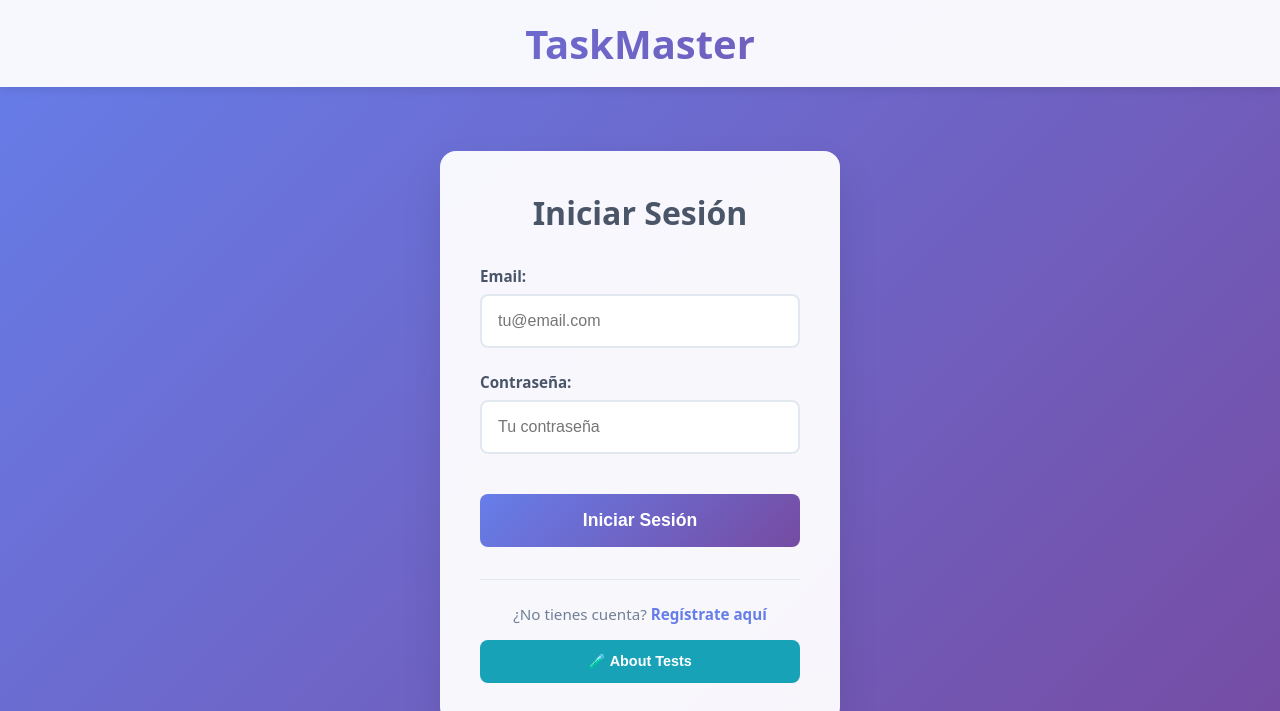
Scenario: Autenticación de Usuarios › Navegación entre Páginas › debería navegar de login a registro
Click the link with test id "register-link".
click(709, 614)  # box top-left (651, 604), bottom-right (767, 624)
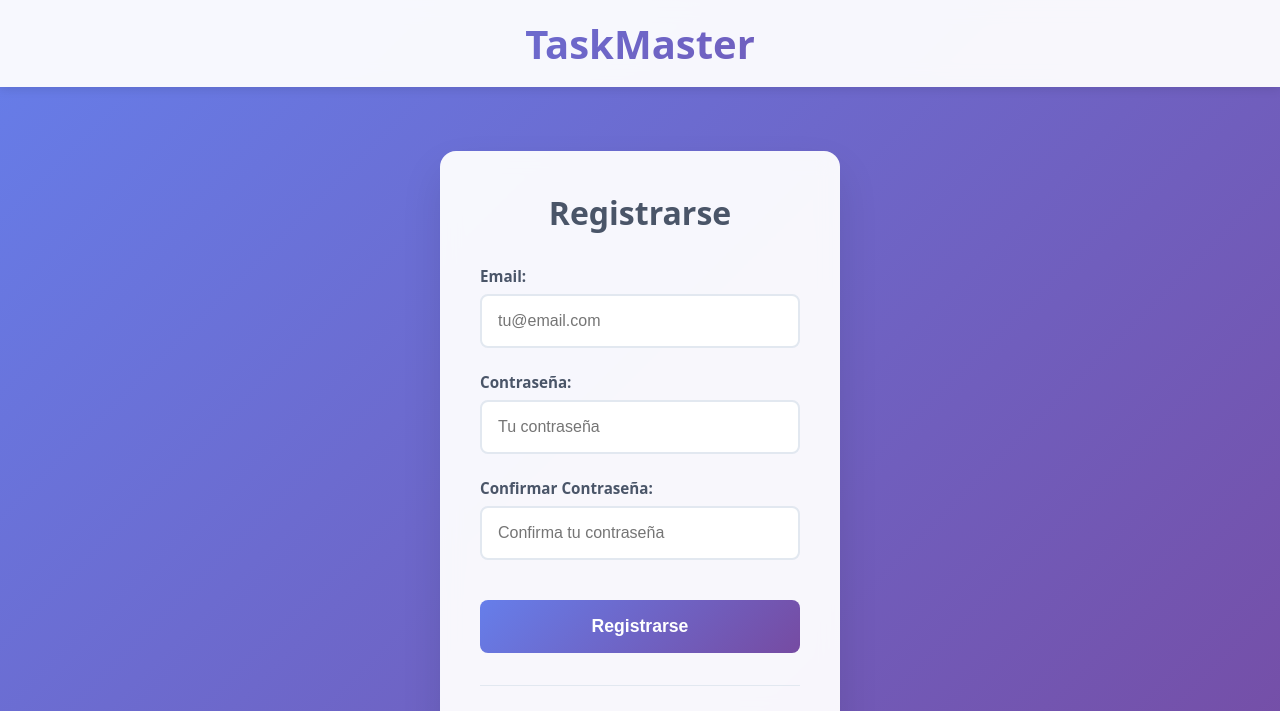
Expected: the heading "Registrarse" is shown, top-left (549, 191), bottom-right (731, 234)
